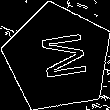M_W: (29, 31, 87, 84)
